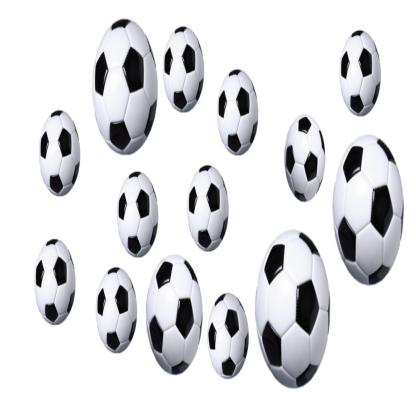ball: (255, 230, 331, 389), (333, 133, 405, 287), (93, 17, 158, 156), (145, 256, 203, 376), (217, 63, 259, 160), (338, 30, 382, 120), (185, 165, 230, 253), (33, 237, 76, 327), (38, 108, 81, 197), (284, 113, 326, 204), (116, 169, 159, 257), (162, 26, 204, 114), (208, 291, 249, 381), (96, 264, 136, 354)
